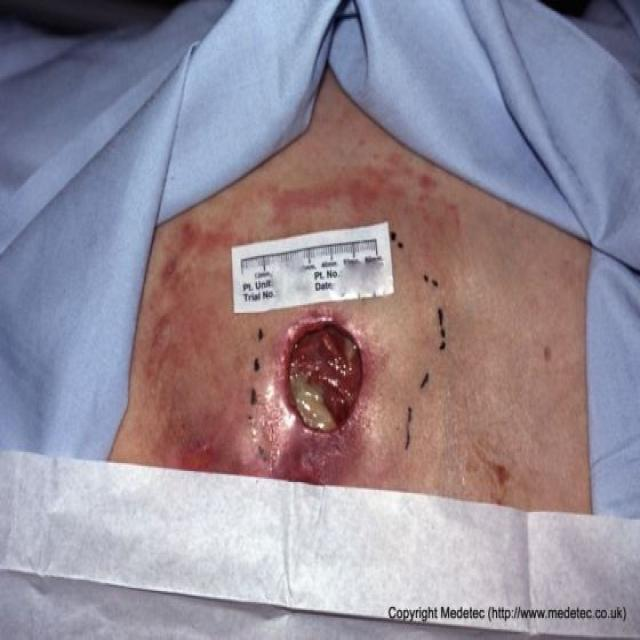stage-1: (161, 215, 235, 288), (268, 186, 358, 227), (173, 437, 242, 473)
stage-4: (289, 325, 362, 431)
